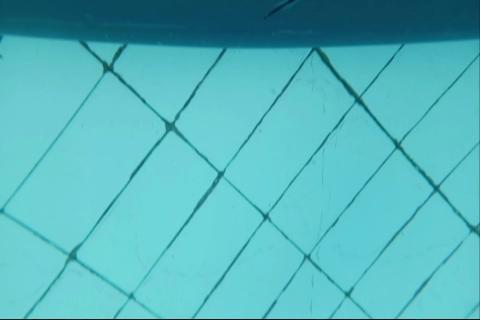keretakan: (261, 0, 295, 22)
